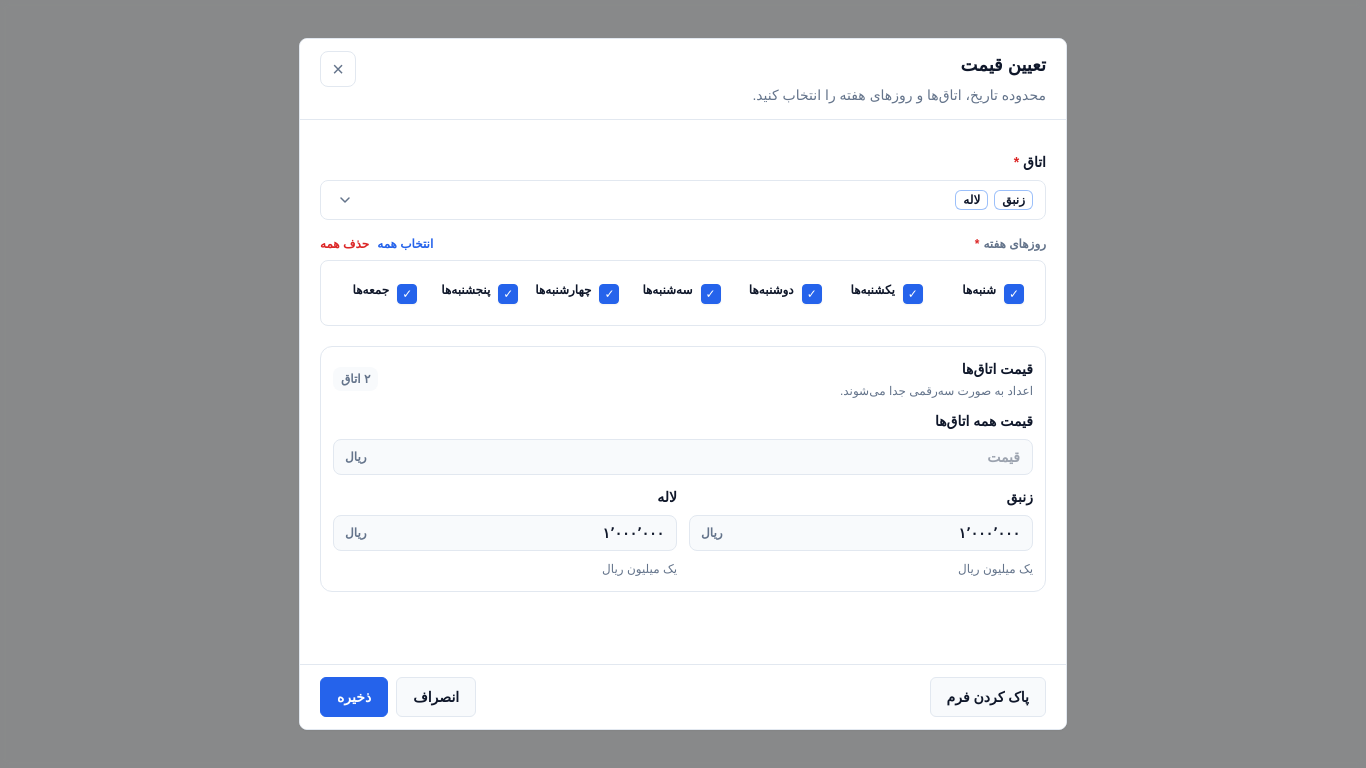
Room Pricing amount in words › updates the bulk all-rooms field and its room fields together
Type "1000000" into the field labelled "قیمت همه اتاق‌ها". click: (683,457)
box: [333, 439, 1033, 475]
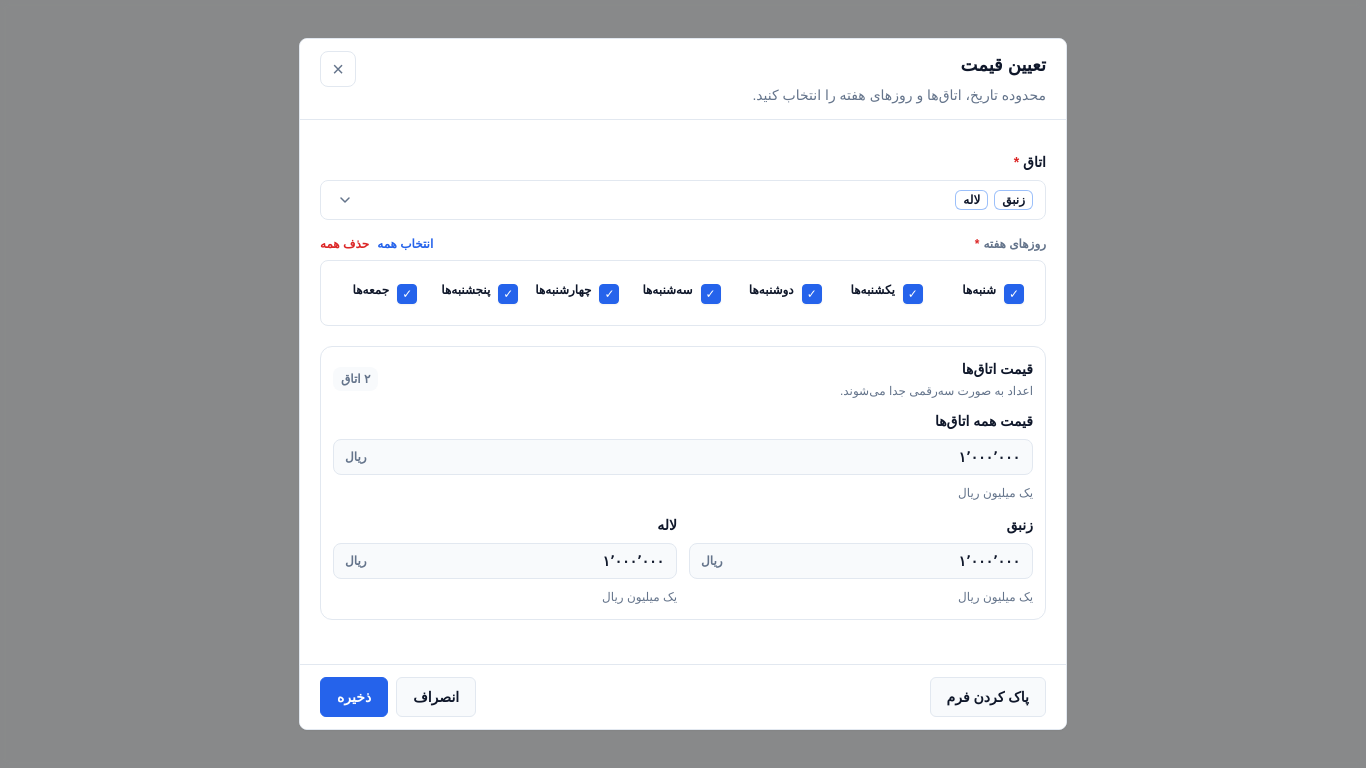
Expected: the text "یک میلیون ریال" is shown 3 times, [958, 486, 1033, 500]; [958, 590, 1033, 604]; [602, 590, 677, 604]
